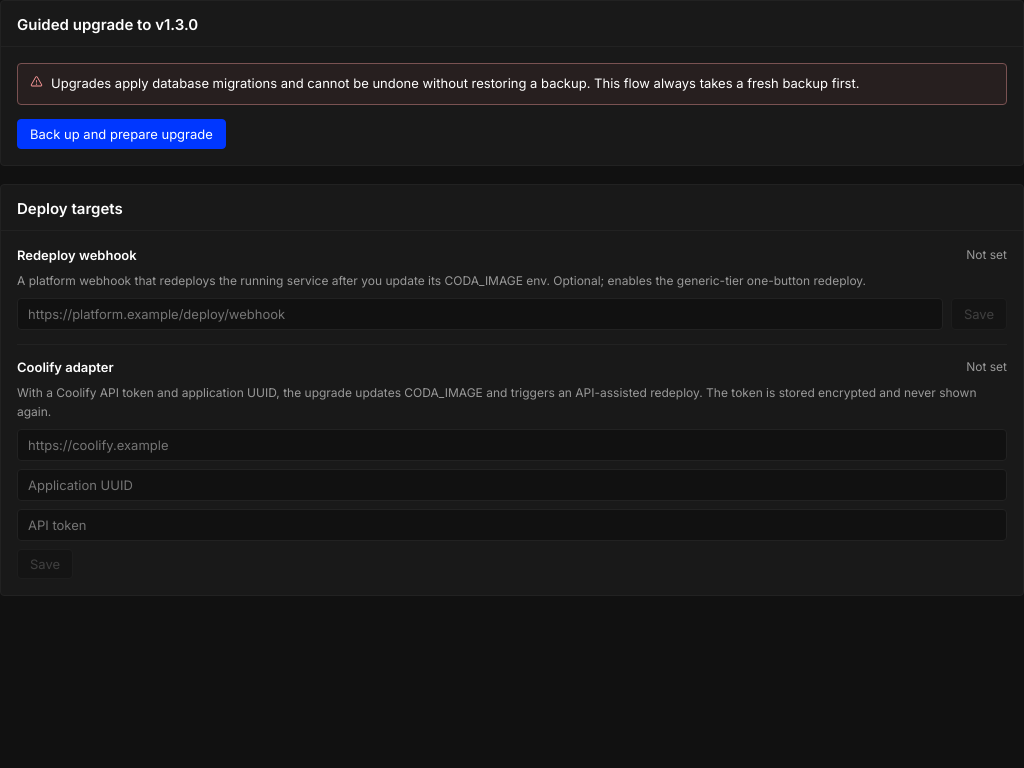
Scenario: UpgradeCeremony › surfaces an action error inline without losing the panel
Click the button "Back up and prepare upgrade": (121, 134) [17,118,226,148]
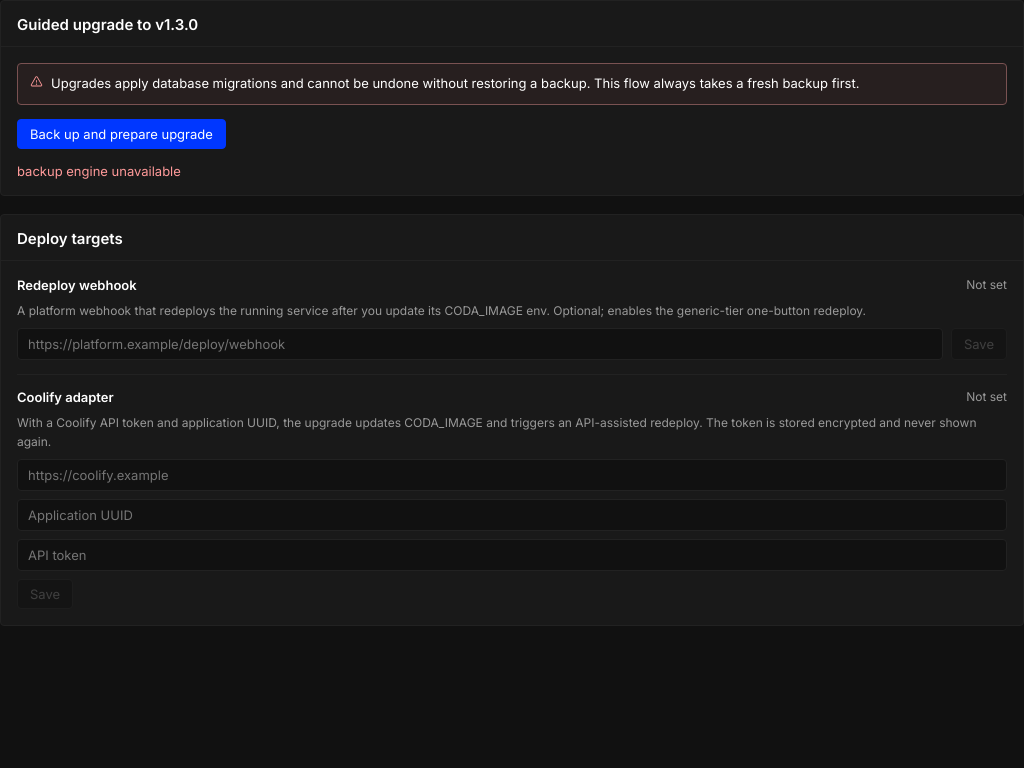
Expected: the text "backup engine unavailable" is shown, [17,162,181,178]
